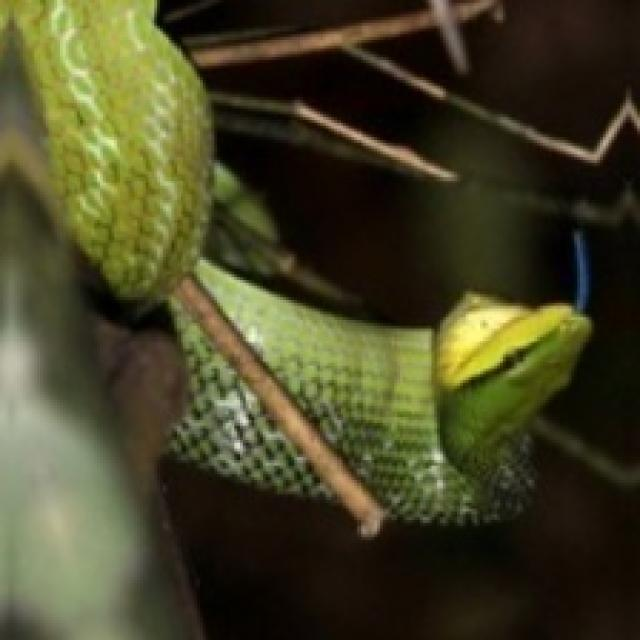red-tailed green ratsnake: (0, 0, 589, 531)
